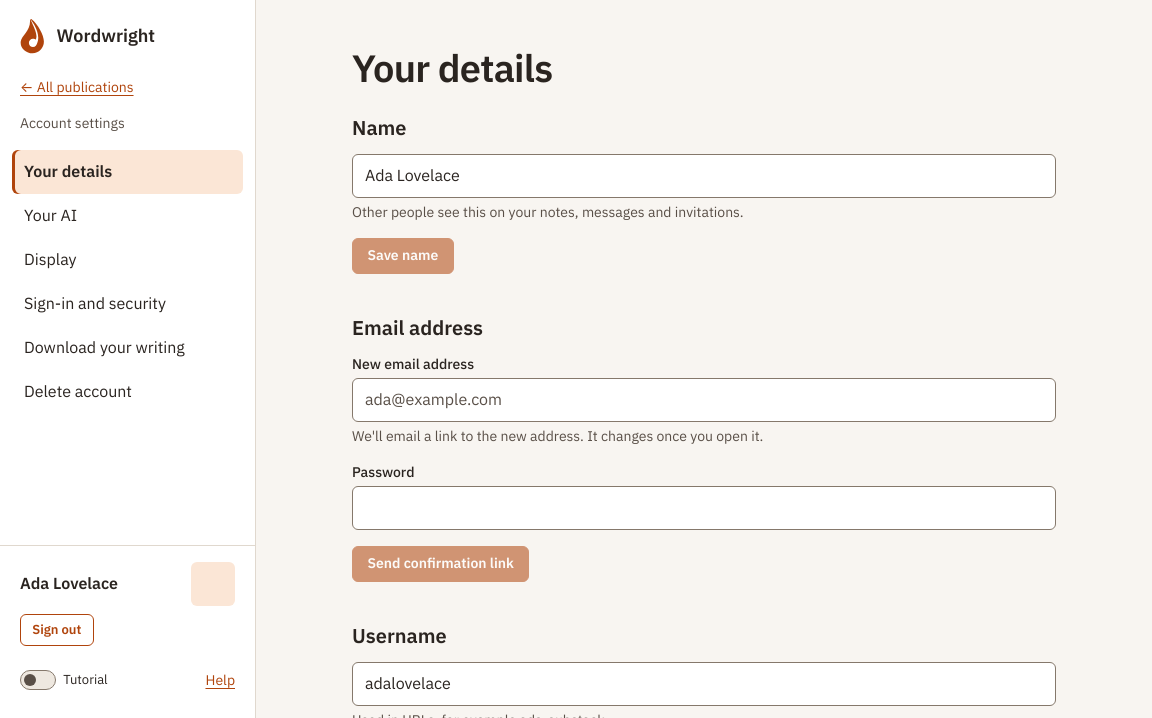
Scenario: username on the account page › shows the server's reason when saving fails
Replace the text in the 2nd field named "Username" with "lovelace" at (704, 684), box [352,662,1056,706]
(page scrolled)
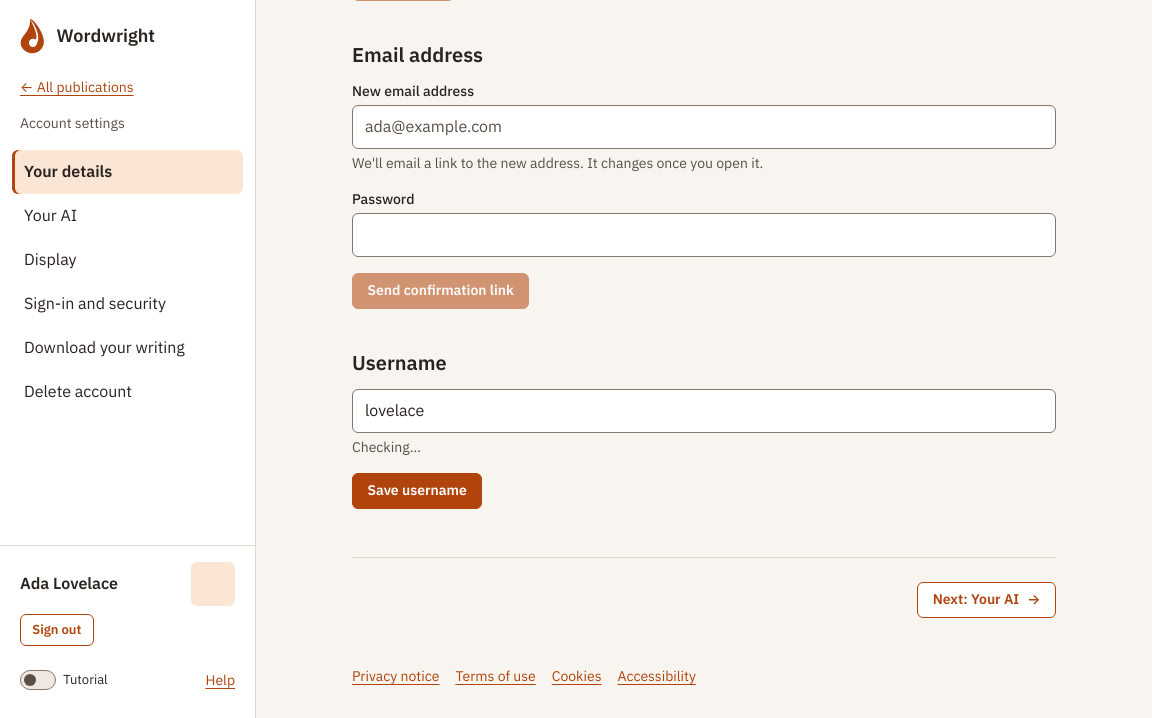
Click the button "Save username".
click(417, 491)  # box [352,473,482,509]
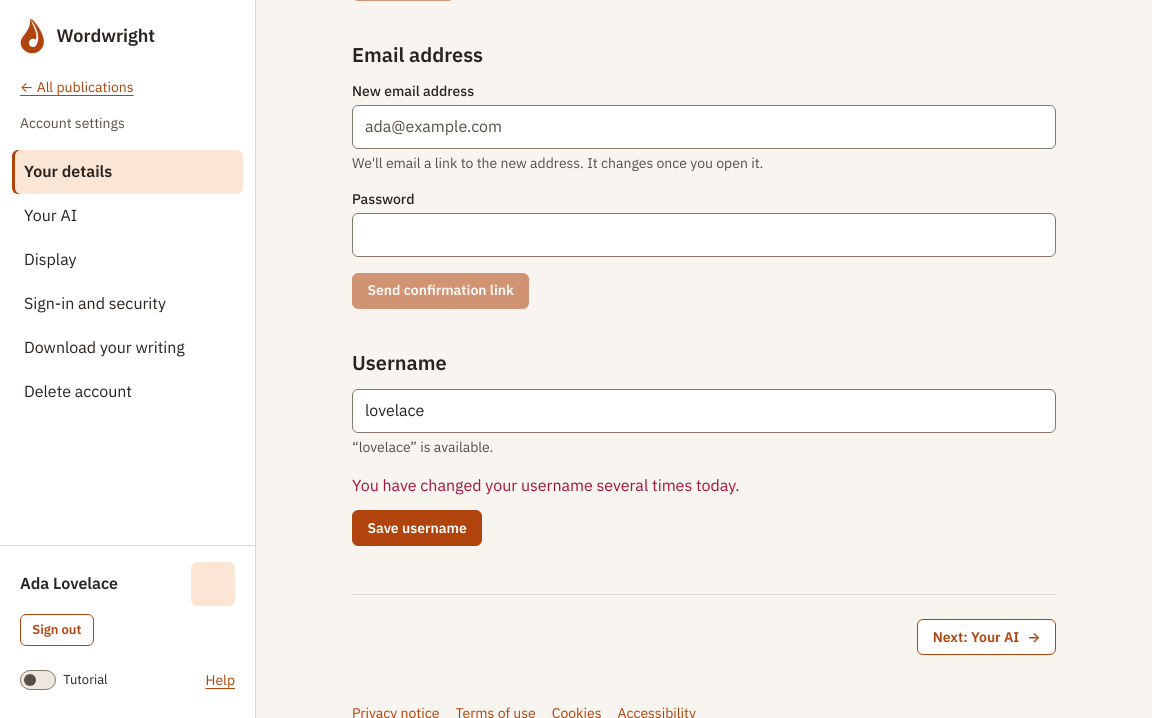
Now the message shows "changed your username several", box [352,475,740,495]
